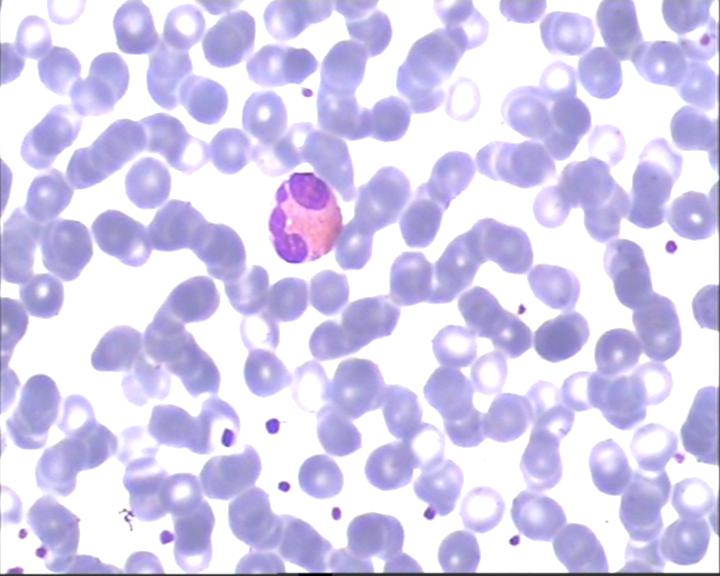eosi: (260, 165, 347, 267)
